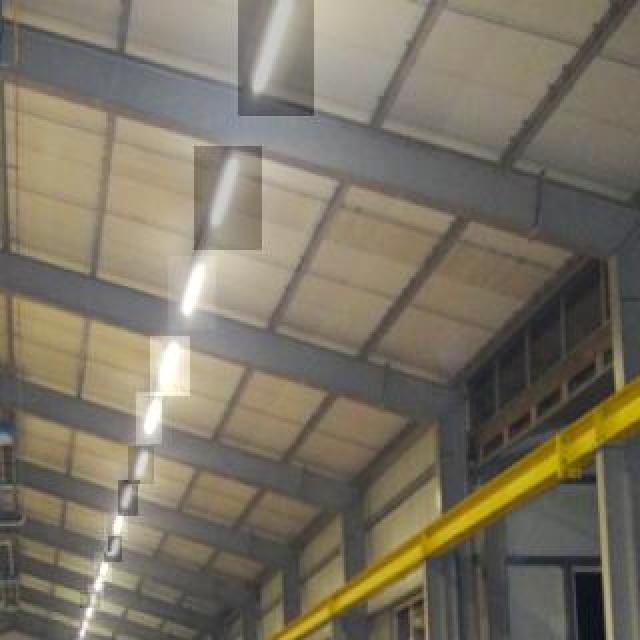fluorescent tube: (240, 0, 298, 96), (205, 155, 247, 240), (171, 261, 209, 323), (132, 389, 172, 446), (152, 340, 184, 396)
